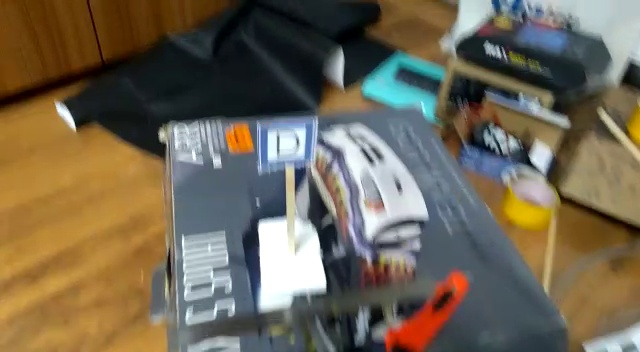durak: (254, 106, 316, 172)
